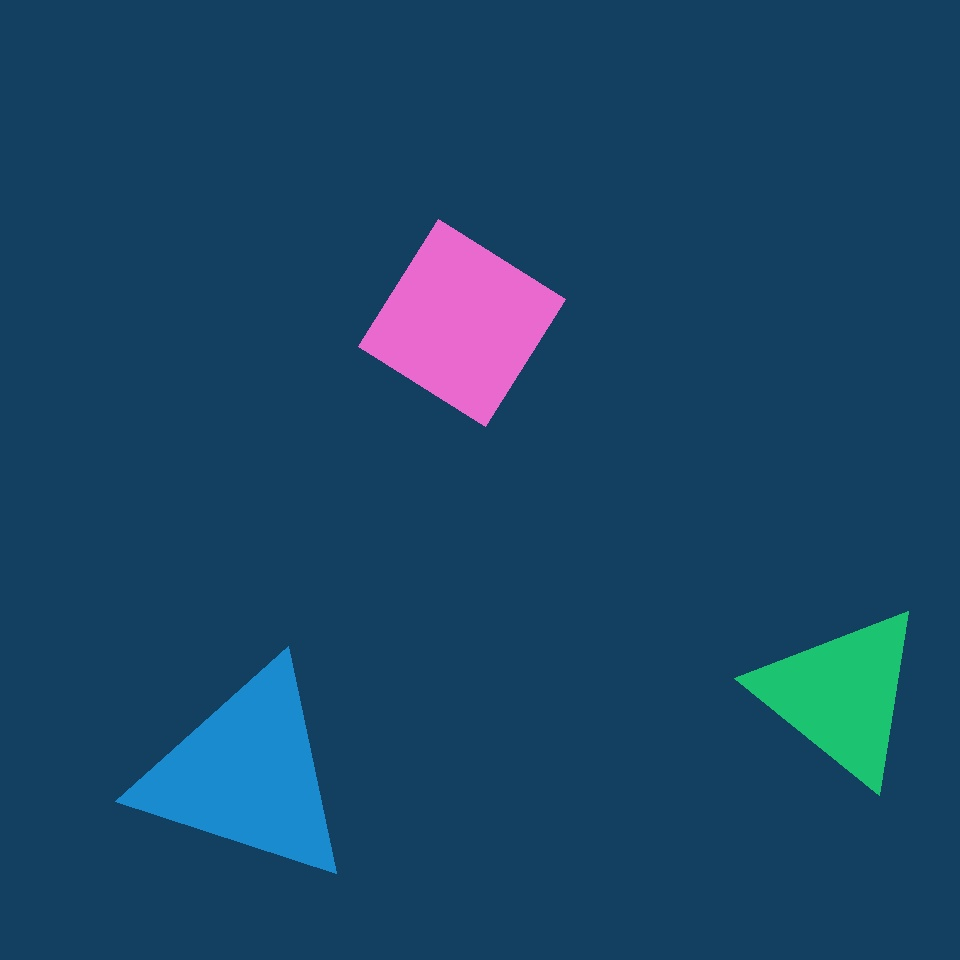circle: (136, 660, 358, 888), (754, 603, 928, 787), (211, 539, 392, 709)
square: (308, 514, 548, 754), (358, 220, 566, 427), (521, 748, 669, 896), (368, 855, 450, 938)
